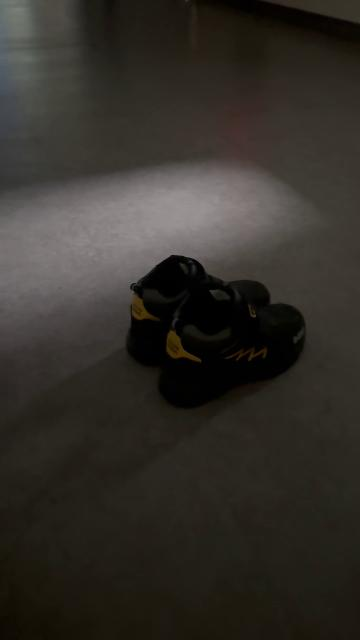shoe_worn: (124, 251, 271, 371), (157, 299, 307, 412)
